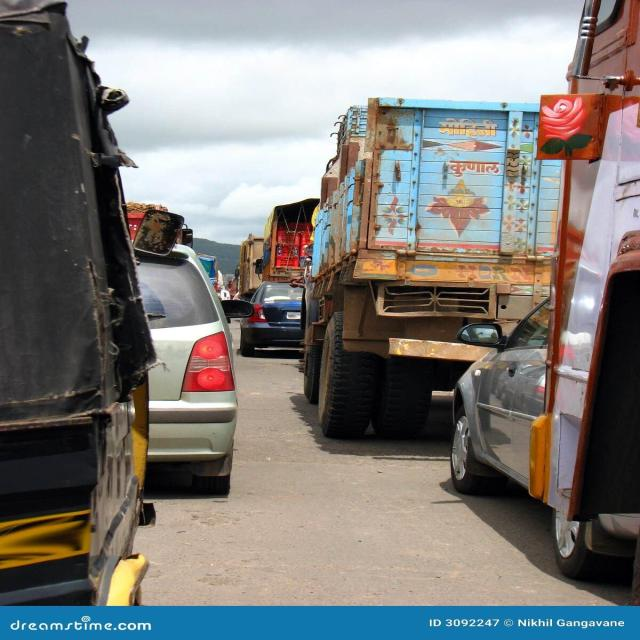truck: (303, 98, 562, 439)
